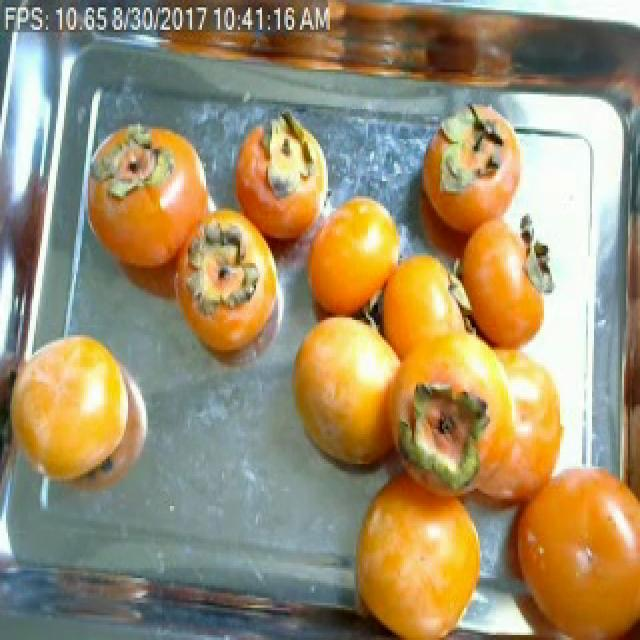Fruit: (274, 297, 428, 498), (0, 317, 160, 508), (334, 449, 494, 640), (358, 236, 480, 402)
